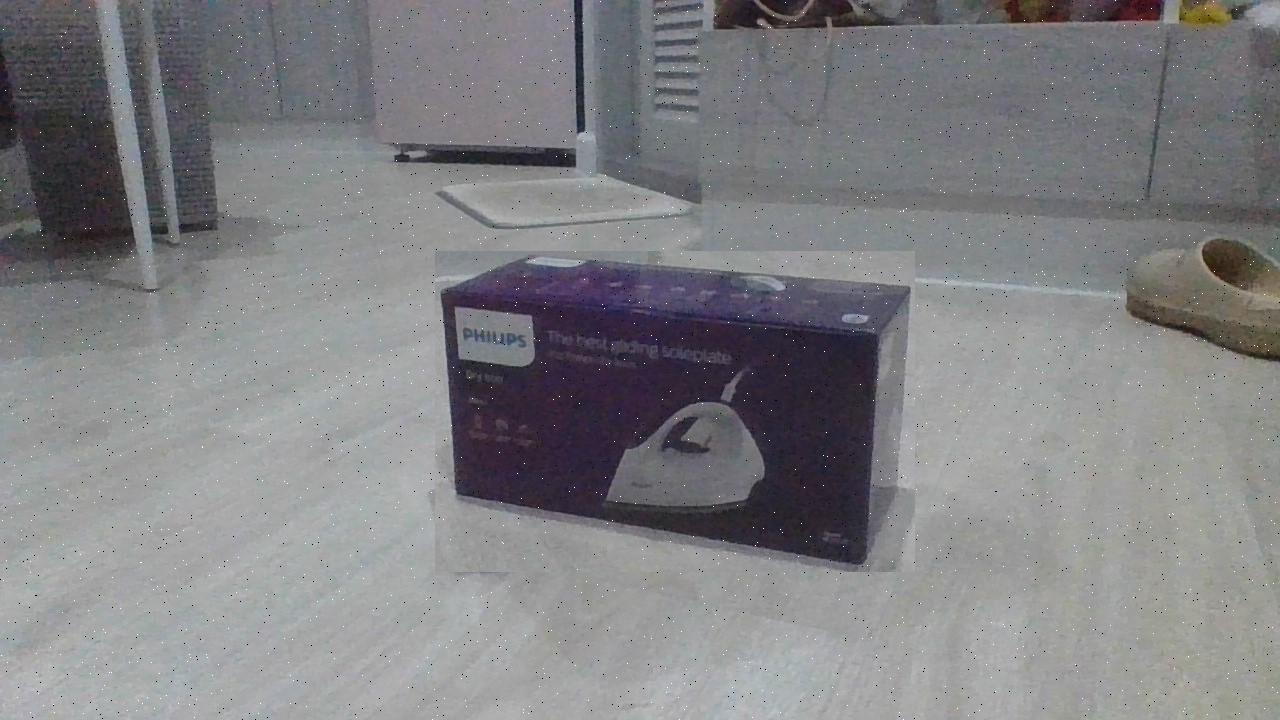IRON: (435, 251, 915, 572)
